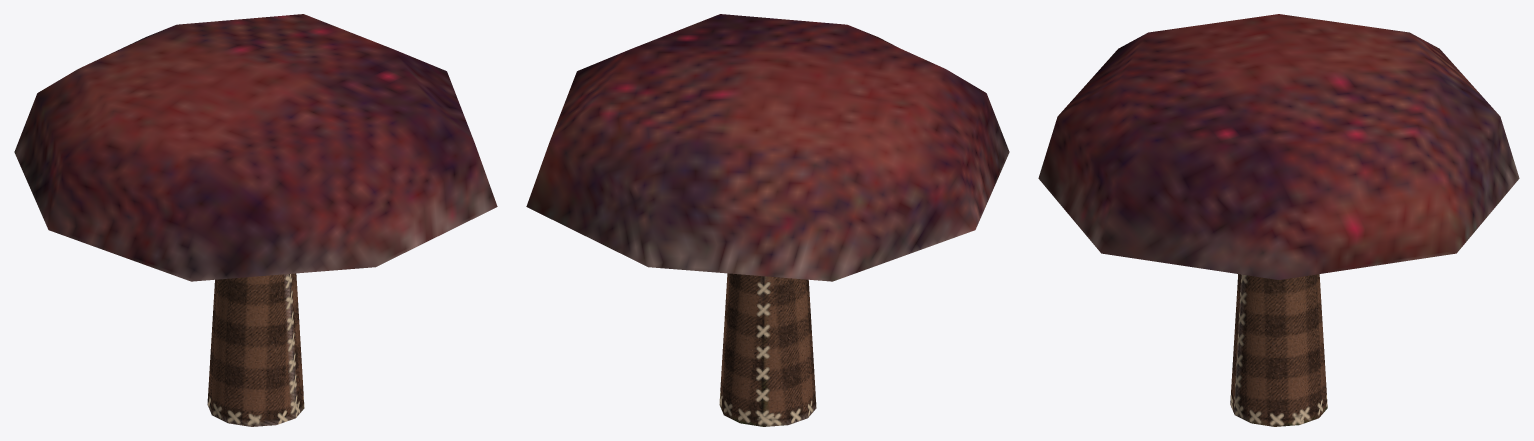
Rendered from lpb_cs_shroom.fbx.
3 renders of one model, left to right at view 1: azimuth 30°, elevation 25°; view 2: azimuth 150°, elevation 25°; view 3: azimuth 270°, elevation 25°, orthographic.
Parts seen in each view (by area): view 1: lpb_cs_shroom; view 2: lpb_cs_shroom; view 3: lpb_cs_shroom.
Boxes of the visible parts, x1=… form: lpb_cs_shroom: x1=14, y1=14, x2=497, y2=426; lpb_cs_shroom: x1=526, y1=14, x2=1009, y2=426; lpb_cs_shroom: x1=1038, y1=14, x2=1519, y2=426.
Bounding box in the file's own units: 46.09 × 35.77 × 46.09.
